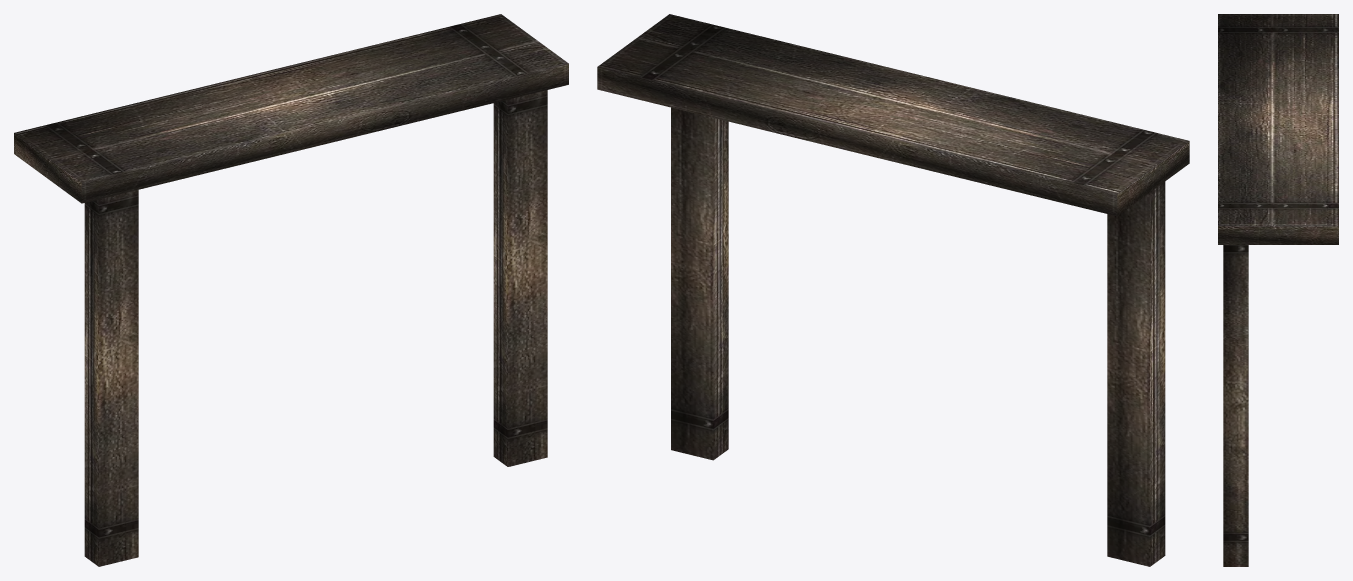
File: KM_VOB_WOOD_SHELF_01.glb
3 renders of one model, left to right at view 1: azimuth 30°, elevation 25°; view 2: azimuth 150°, elevation 25°; view 3: azimuth 270°, elevation 25°, orthographic. The views are drawn at different scales.
Visible parts, largest first — view 1: Mesh; view 2: Mesh; view 3: Mesh.
Boxes of the visible parts, x1,y1,x2,y2 form: Mesh: (14,14,568,566); Mesh: (597,14,1189,566); Mesh: (1218,14,1338,566).
Size of the model in its own units: 1.92 by 1.48 by 0.4622.
Materials: 1 (1 with a texture image).
